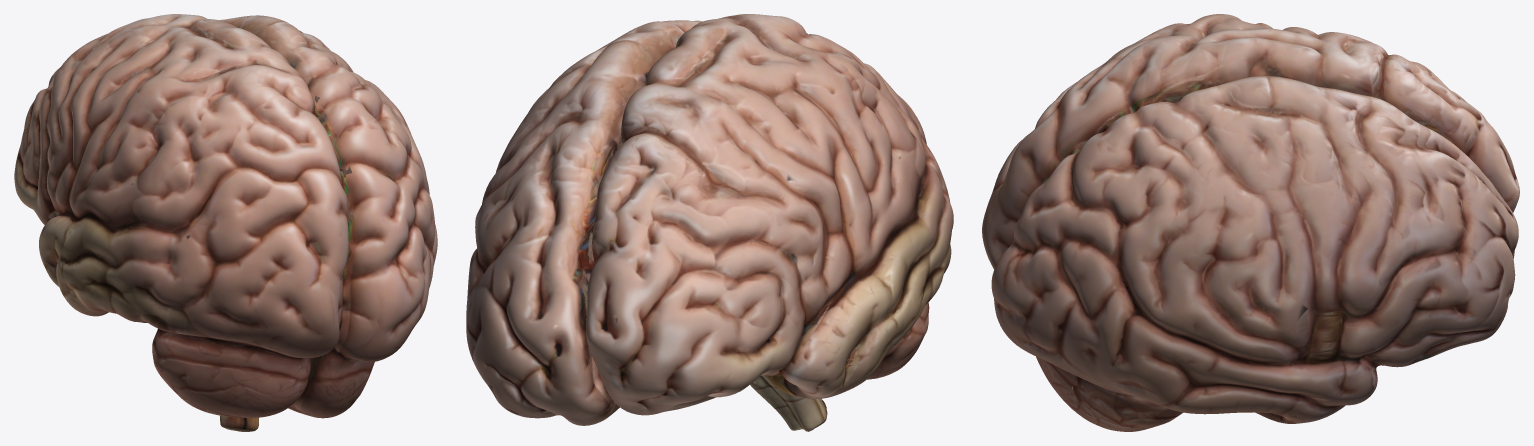
The model's file is organ-brain-interactive-lod.glb.
3 renders of one model, left to right at view 1: azimuth 30°, elevation 25°; view 2: azimuth 150°, elevation 25°; view 3: azimuth 270°, elevation 25°, orthographic. The views are drawn at different scales.
Visible parts, largest first — view 1: Mesh_0_Material_0.001_0.003, Mesh_0_Material_0.001_0, Mesh_0_Material_0.001_0.001, Mesh_0_Material_0.001_0.002; view 2: Mesh_0_Material_0.001_0.003, Mesh_0_Material_0.001_0, Mesh_0_Material_0.001_0.002, Mesh_0_Material_0.001_0.001; view 3: Mesh_0_Material_0.001_0, Mesh_0_Material_0.001_0.003, Mesh_0_Material_0.001_0.001.
Part boxes in pixels (x1,y1,x2,y2): Mesh_0_Material_0.001_0.003: [14, 14, 349, 358]; Mesh_0_Material_0.001_0: [218, 15, 437, 361]; Mesh_0_Material_0.001_0.001: [152, 328, 374, 418]; Mesh_0_Material_0.001_0.002: [220, 415, 258, 431]; Mesh_0_Material_0.001_0.003: [586, 14, 953, 415]; Mesh_0_Material_0.001_0: [466, 20, 702, 425]; Mesh_0_Material_0.001_0.002: [750, 375, 827, 431]; Mesh_0_Material_0.001_0.001: [867, 302, 929, 379]; Mesh_0_Material_0.001_0: [991, 76, 1518, 423]; Mesh_0_Material_0.001_0.003: [982, 14, 1519, 269]; Mesh_0_Material_0.001_0.001: [1036, 356, 1182, 431].
Size of the model in its own units: 1.55 by 1.62 by 2.04.
Materials: 1 (1 with a texture image).
